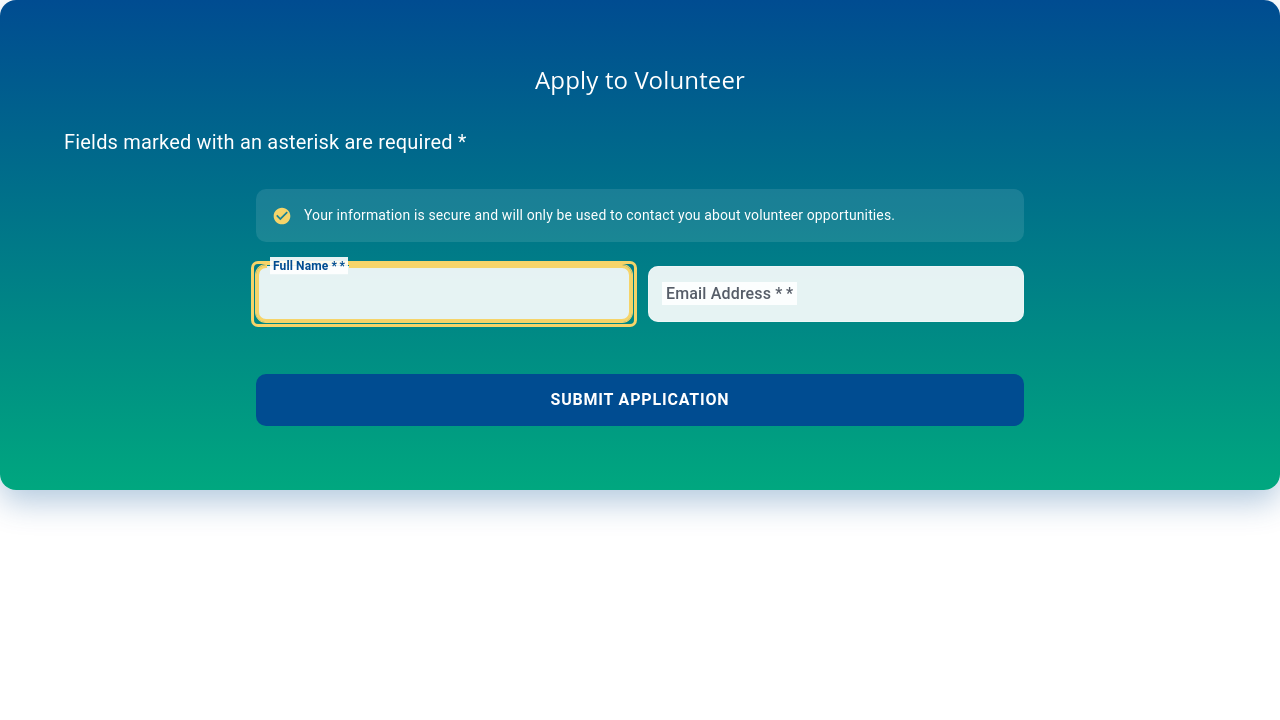
Test case: Volunteer Form Error Handling › should clear field error when user starts typing
Submit the form, box [256, 266, 1024, 426]
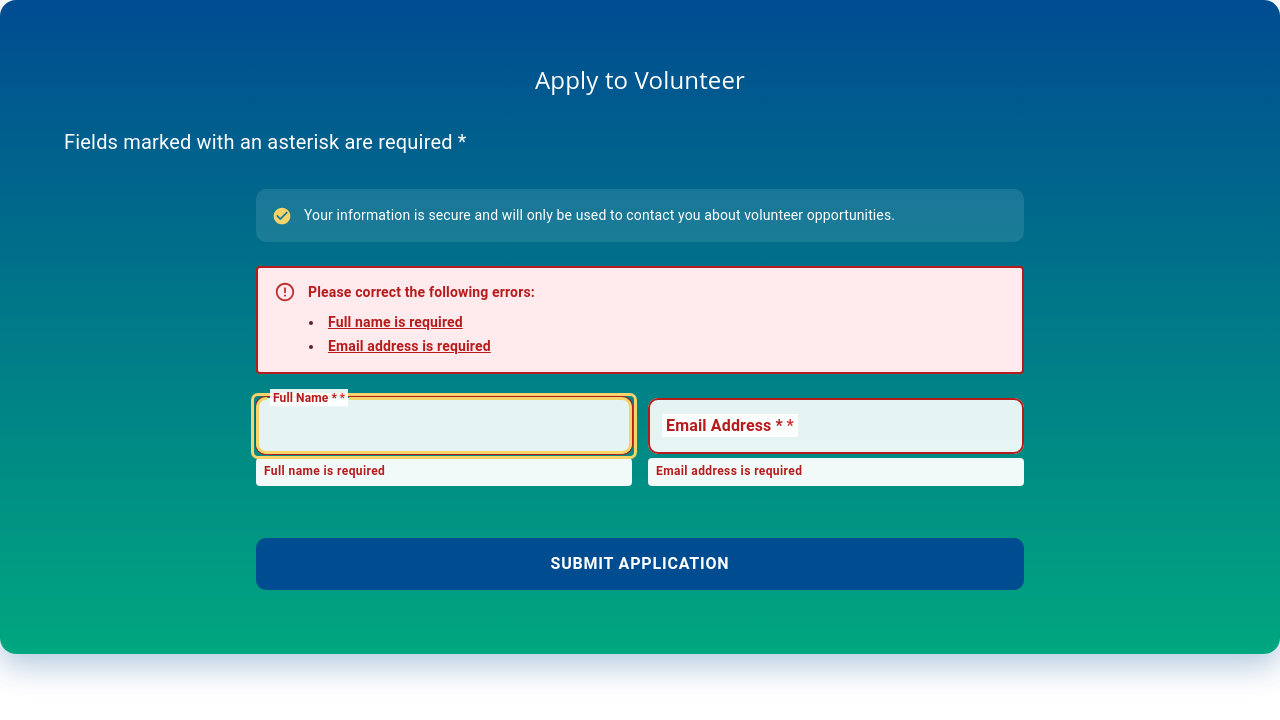
Check: the link "Full name is required" is shown, box [324, 310, 467, 334]
In the field labelled "Full Name * *": [444, 426] box [256, 398, 632, 454], type "J"
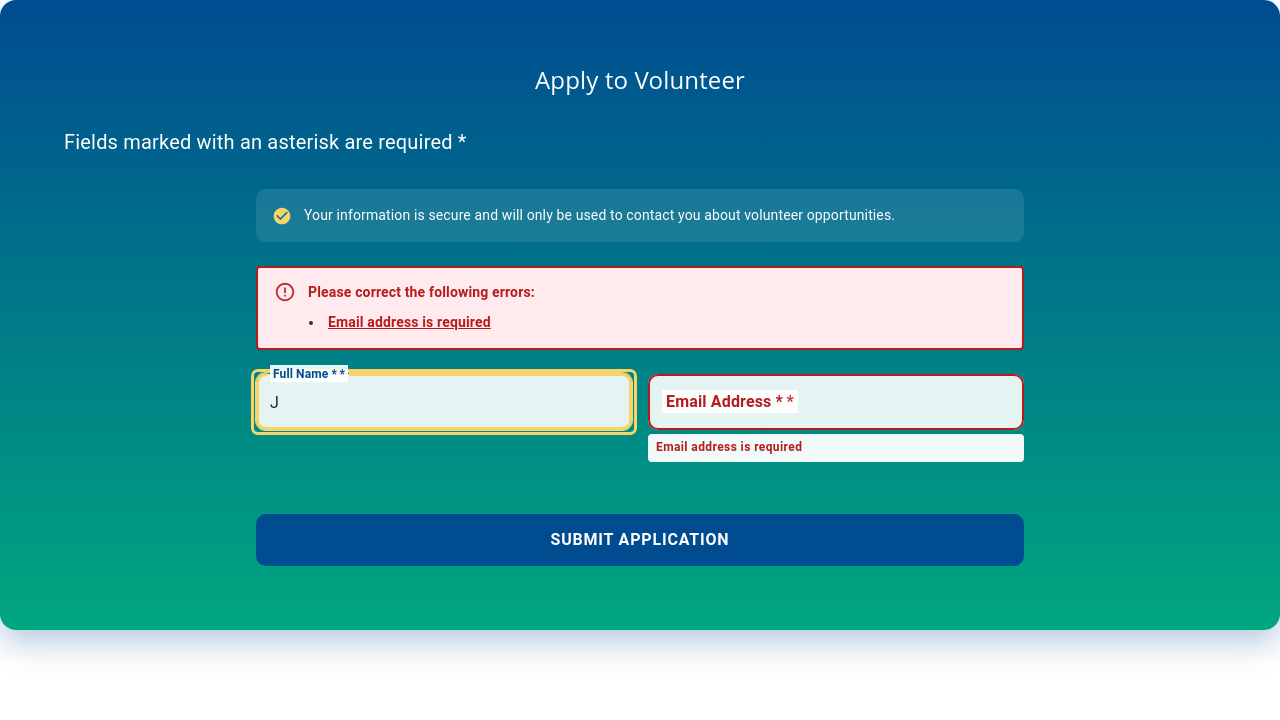
Check: the link "Full name is required" is gone
